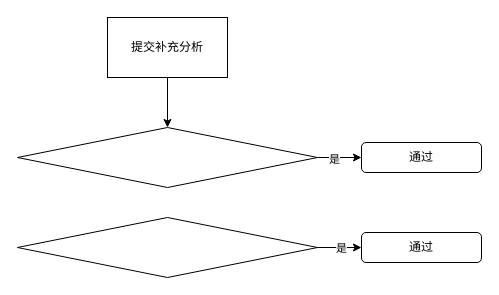
This 499x295 diagram has some shape labels left out. Here are the shapes that lost their labels. From the top down, the centre of each, then its label:
At pixel 167 157: "分析内容=“ 项目问题数据评估-问题原因探究 ”".
At pixel 167 247: "补充分析次数 > 已经提交补充分析次数".
